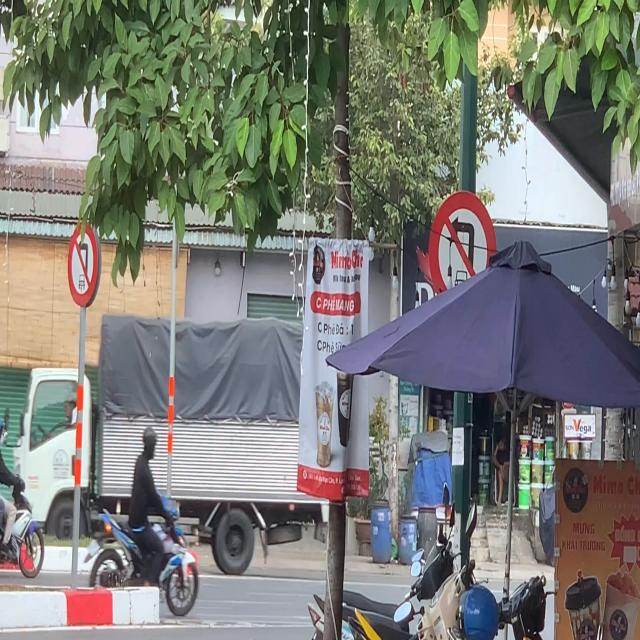Cam re trai: (426, 189, 496, 279), (67, 221, 99, 312)
